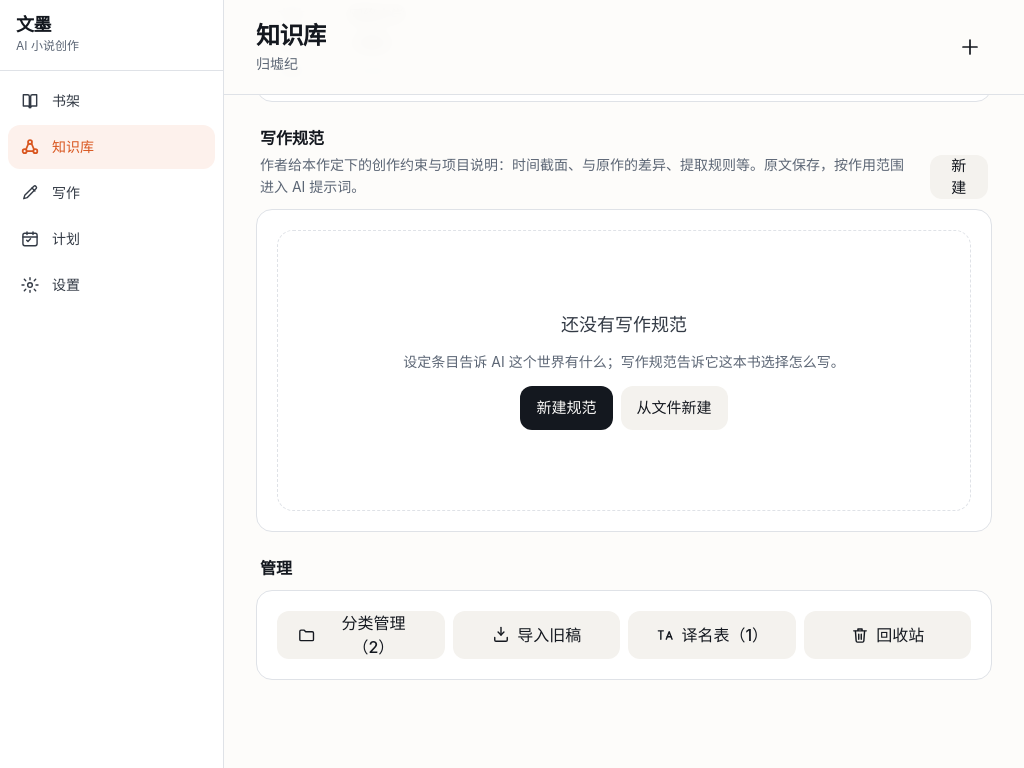
Test: 从译名表跳到对不上的那一章 › 译名表里能看到是哪一条对不上
(page scrolled)
Step 1. Click the button "译名表（1）" → (712, 635), box [628,611,796,659]
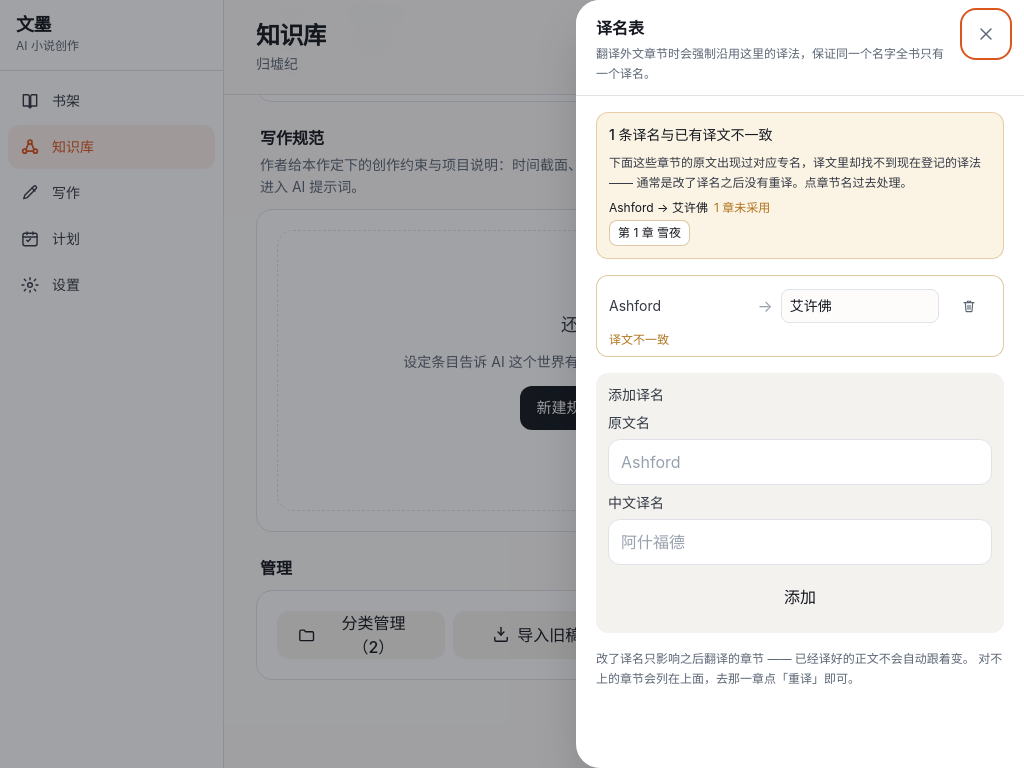
Result: the heading "1 条译名与已有译文不一致" is shown at [609,126,772,143]
Result: the dialog "译名表" shows "Ashford → 艾许佛" at [576,0,1023,767]
Result: the dialog "译名表" shows "1 章未采用" at [576,0,1023,767]
